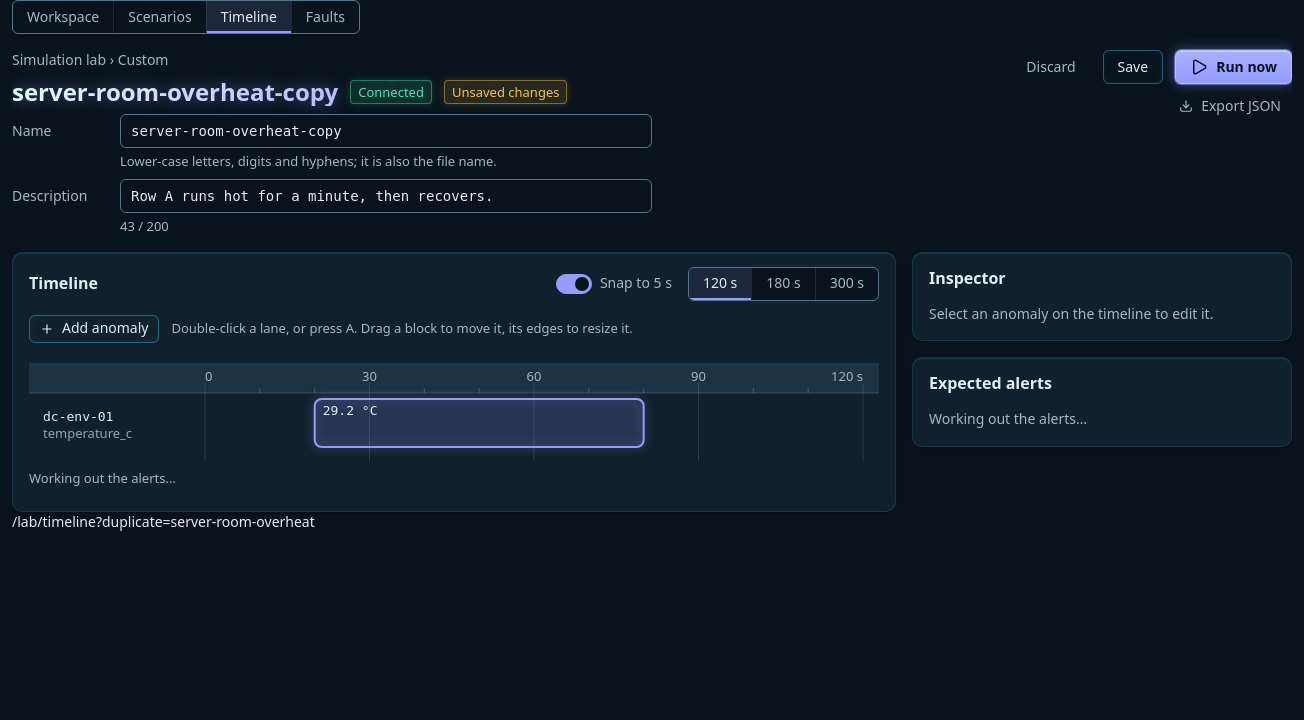
Test case: Timeline: building a scenario › opens a copy of a built-in under a new name, unsaved, and saves it as a file
Expected: the field labelled "Name" holds "server-room-overheat-copy", [120, 114, 652, 148]
Expected: the text "Unsaved changes" is shown, [444, 80, 567, 104]
Click the button "Save". click: (1133, 67)
box: [1103, 50, 1163, 84]
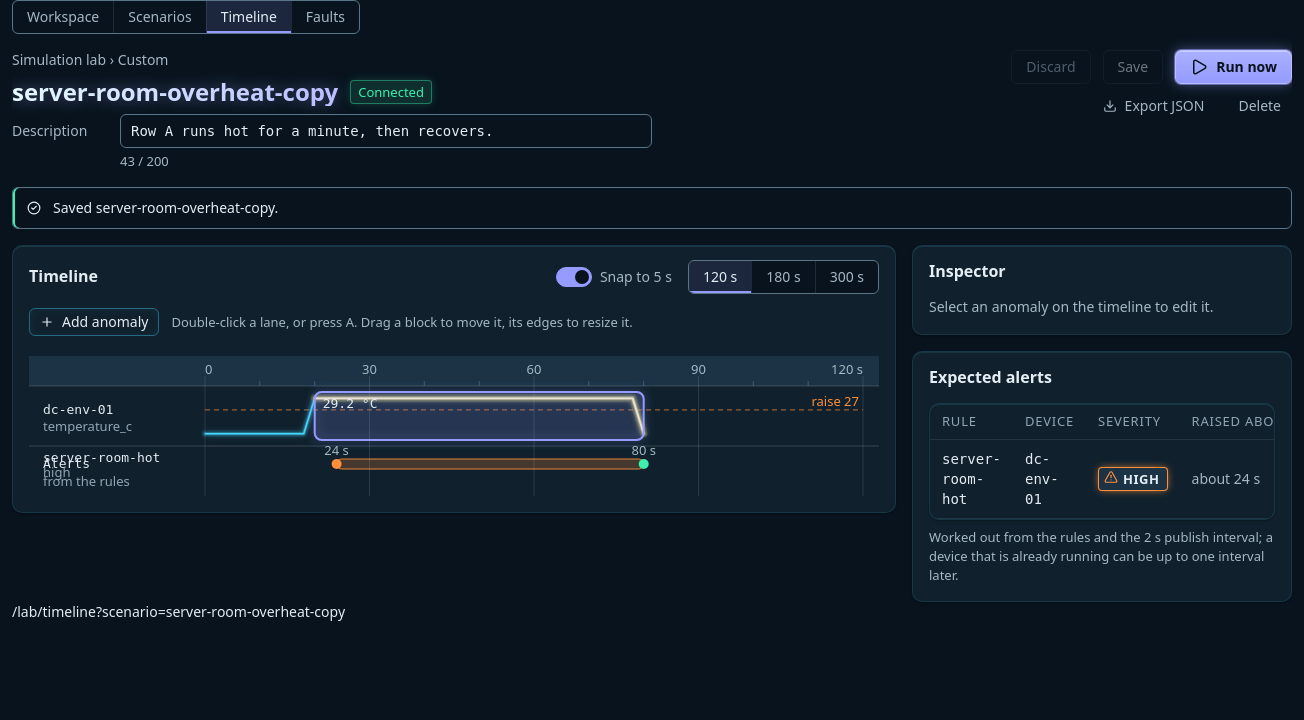
Expected: the text "Saved server-room-overheat-copy." is shown, [53, 198, 278, 217]
Expected: the text with test id "location" reads "/lab/timeline?scenario=server-room-overheat-copy", [12, 602, 345, 621]
